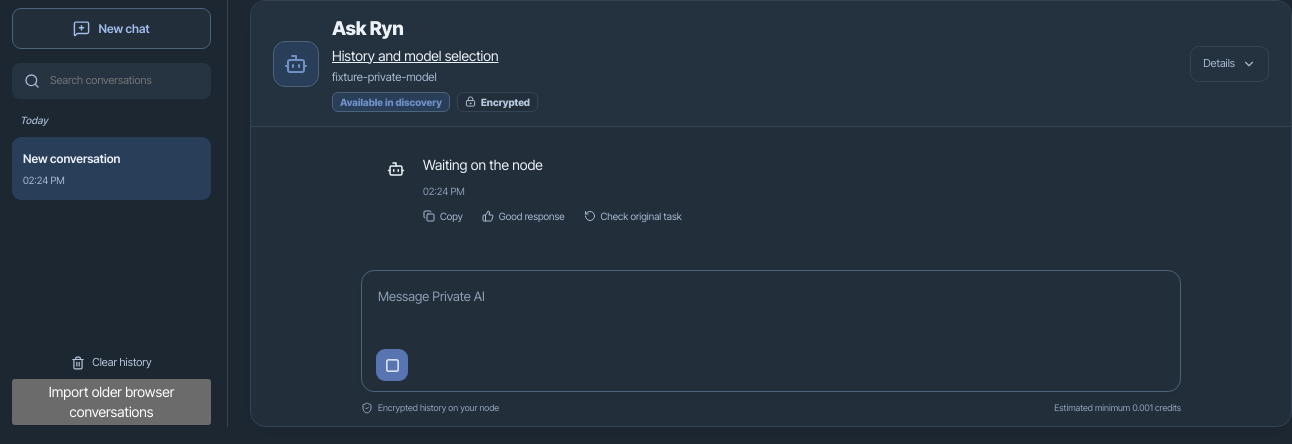
Private AI chat › frees the composer once a confirmed cancellation is reflected in refreshed history
Check: the heading "Ask Ryn" is shown, box [332,17,404,40]
Check: the text "Waiting on the node" is shown, box [423,156,543,173]
Type "Ready to retry" into the text box labelled "Message Private AI" at [771, 314], box [376,283,1166,345]
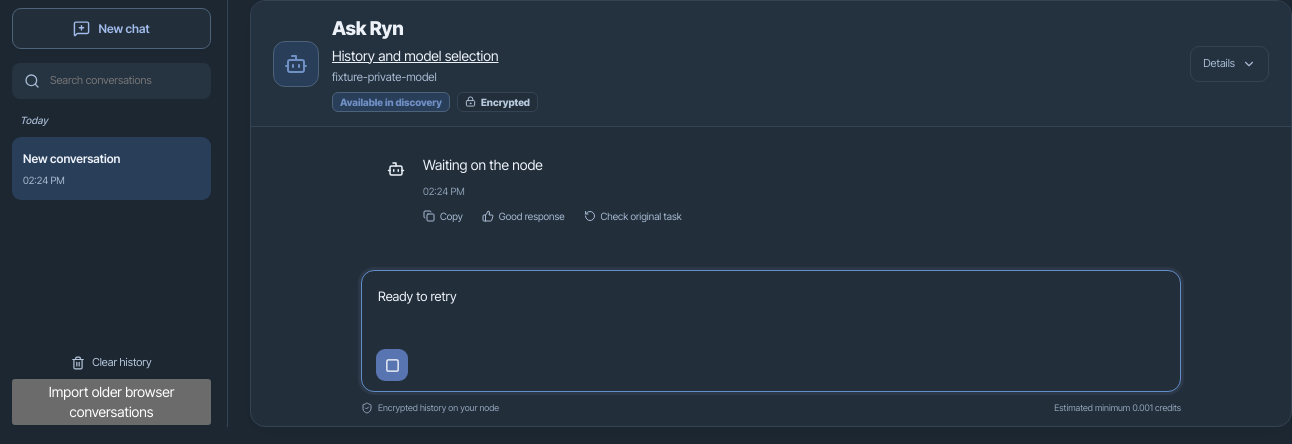
Click the button named "Stop generating" at [392, 365], box [376,349,408,381]
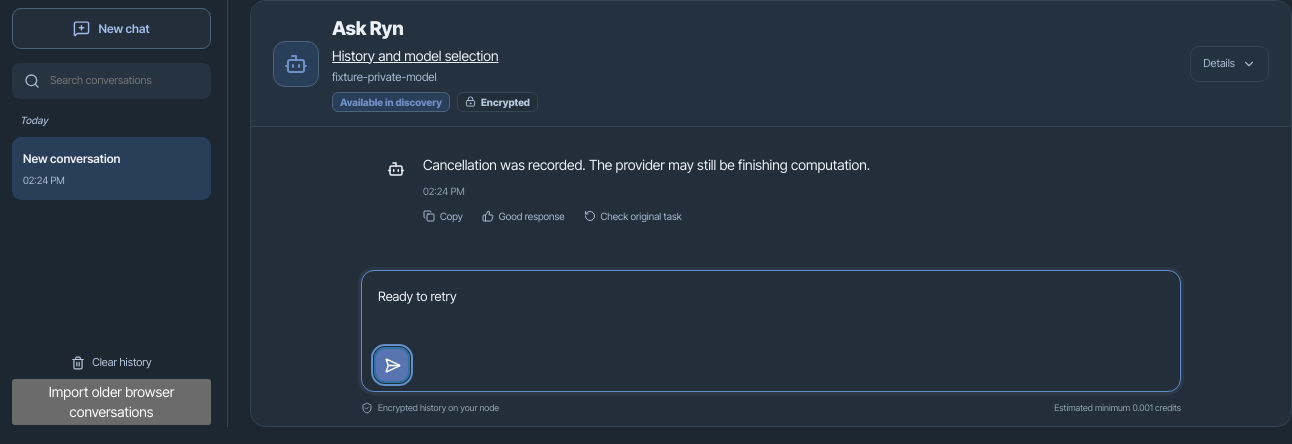
Check: the text "Cancellation was recorded. The provider may still be finishing computation." is shown, box [423,152,870,178]
